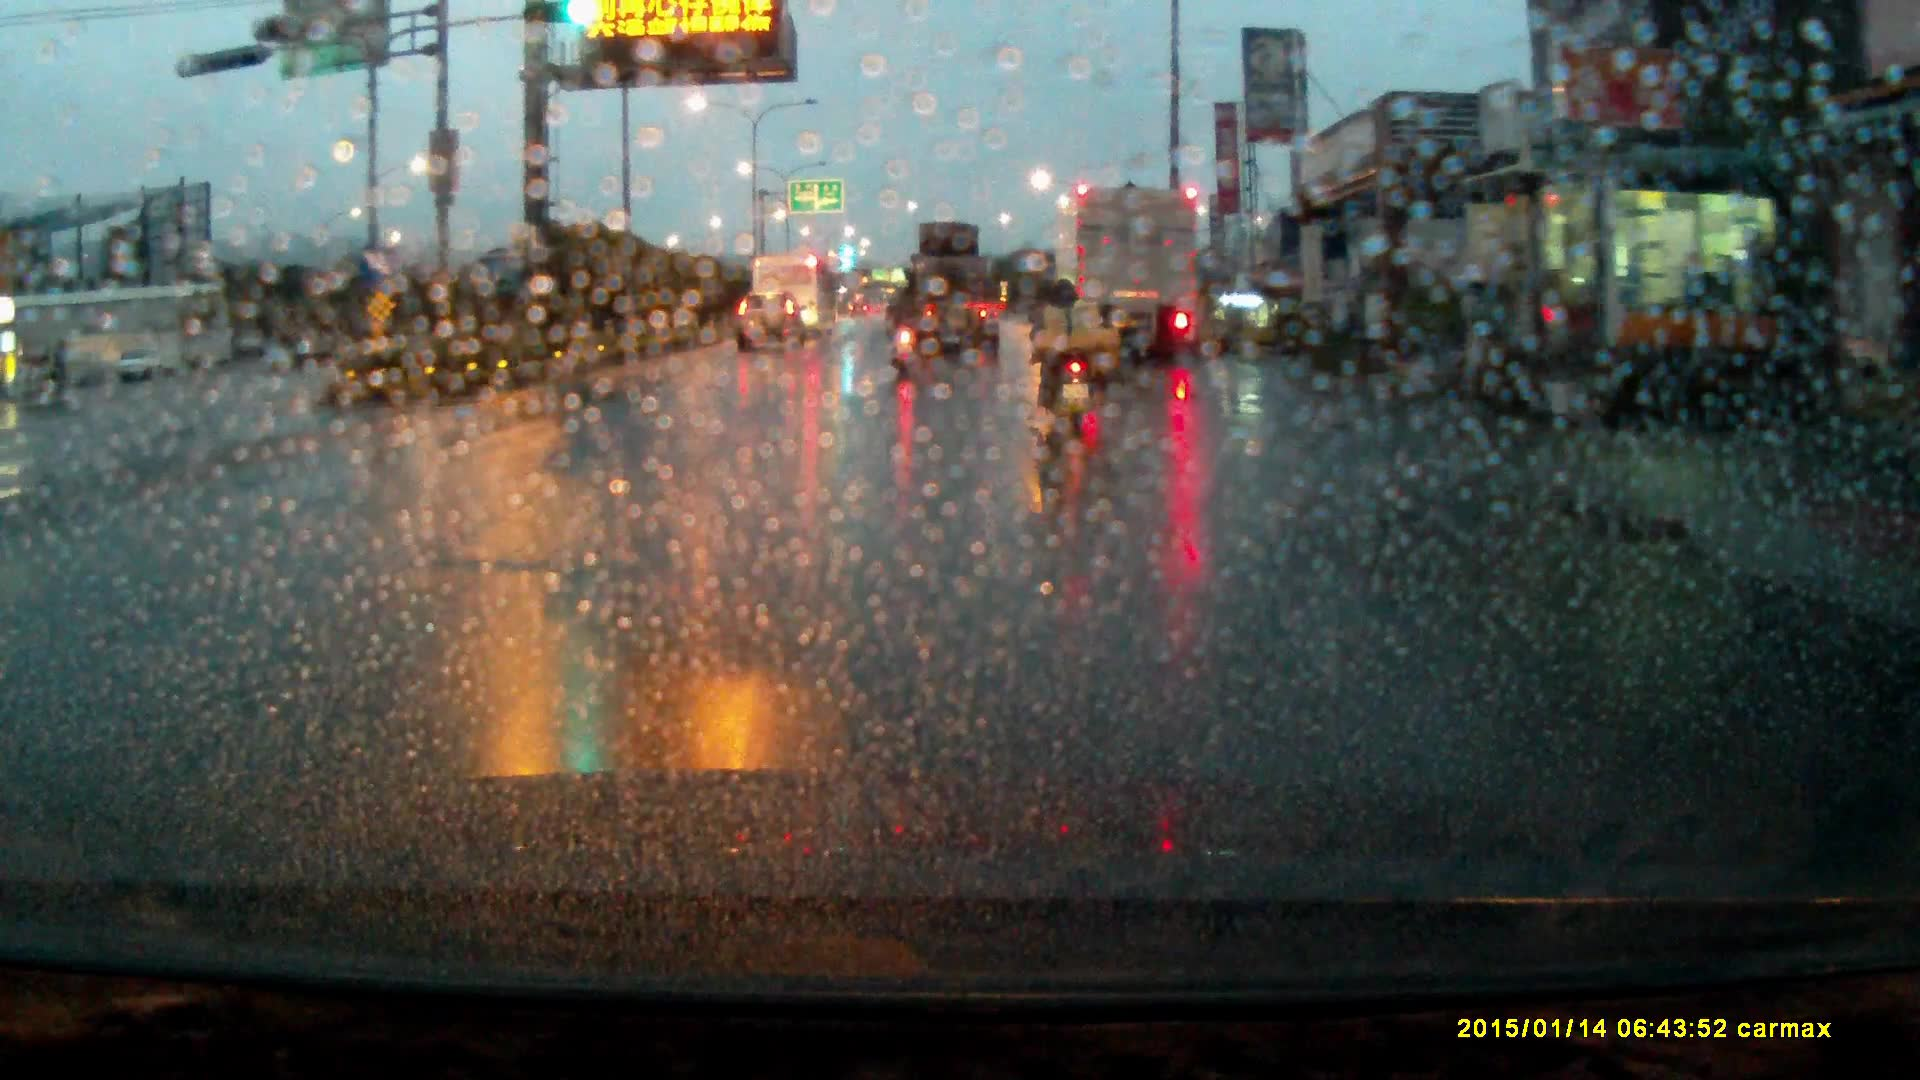rider: (1029, 266, 1110, 431), (890, 268, 929, 367)
vehicle: (1055, 186, 1206, 363), (899, 218, 1001, 357), (766, 244, 841, 327), (738, 285, 809, 351)
